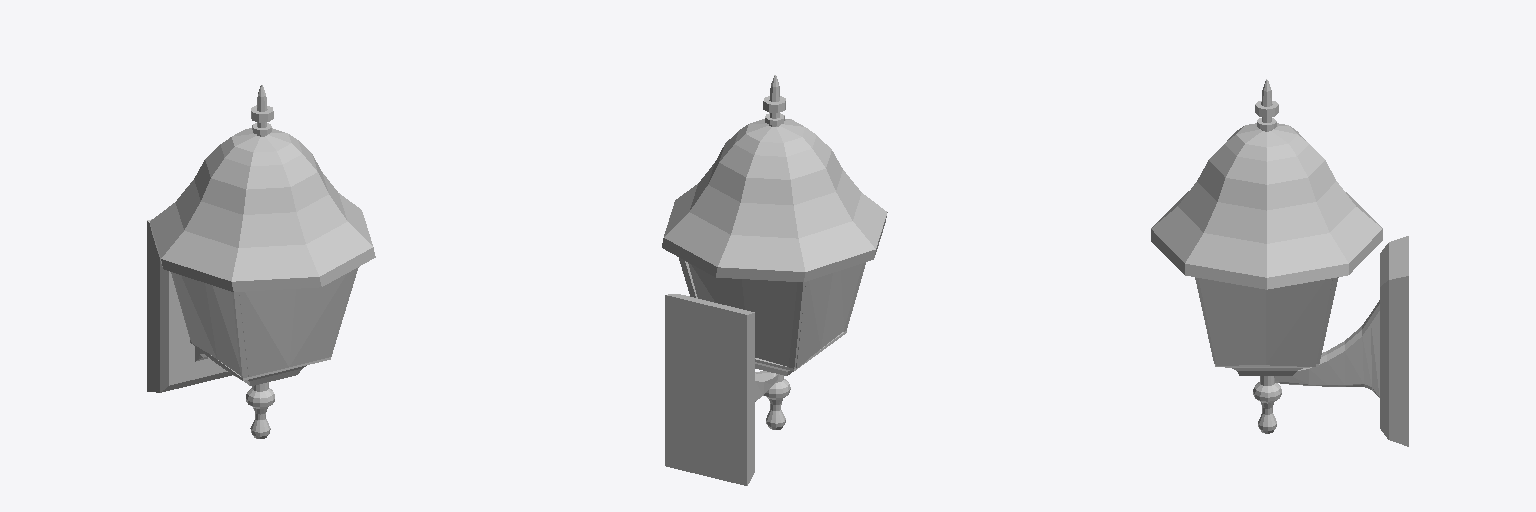
File: porch light.obj
3 views of the same model, side by side, from view 1: azimuth 30°, elevation 25°; view 2: azimuth 150°, elevation 25°; view 3: azimuth 270°, elevation 25° (orthographic).
Parts seen in each view (by area): view 1: Sphere_Sphere.001, Cube.002_Cube, Cube.001_Cube.004, Cube_Cube.001; view 2: Sphere_Sphere.001, Cube.001_Cube.004, Cube.002_Cube, Cube_Cube.001; view 3: Sphere_Sphere.001, Cube.001_Cube.004, Cube.002_Cube, Cube_Cube.001.
Part boxes in pixels (bbox=[...]): Sphere_Sphere.001: bbox=[150, 85, 375, 291]; Cube.002_Cube: bbox=[173, 269, 355, 376]; Cube.001_Cube.004: bbox=[147, 219, 240, 392]; Cube_Cube.001: bbox=[171, 267, 358, 438]; Sphere_Sphere.001: bbox=[662, 75, 887, 281]; Cube.001_Cube.004: bbox=[665, 294, 778, 485]; Cube.002_Cube: bbox=[688, 263, 862, 368]; Cube_Cube.001: bbox=[679, 258, 865, 429]; Sphere_Sphere.001: bbox=[1151, 79, 1382, 289]; Cube.001_Cube.004: bbox=[1274, 236, 1408, 446]; Cube.002_Cube: bbox=[1199, 278, 1332, 366]; Cube_Cube.001: bbox=[1195, 277, 1338, 433].
Bounding box in the file's own units: 2.84 × 4.7 × 3.13.